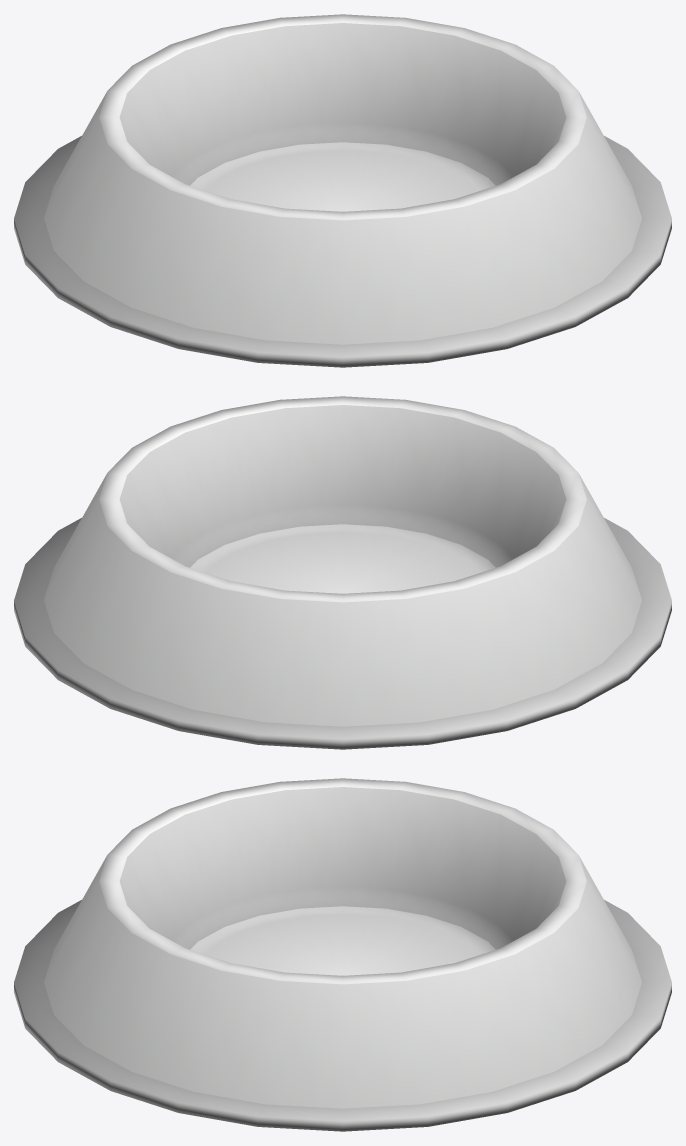
The model's file is tin.gltf.
The picture shows the model from 3 angles, top to bottom: view 1: azimuth 30°, elevation 25°; view 2: azimuth 150°, elevation 25°; view 3: azimuth 270°, elevation 25°; orthographic projection.
Parts seen in each view (by area): view 1: tin; view 2: tin; view 3: tin.
Boxes of the visible parts, left/top/right/bottom form: tin: left=14, top=14, right=671, bottom=367; tin: left=14, top=396, right=671, bottom=749; tin: left=14, top=778, right=671, bottom=1131.
Bounding box in the file's own units: 0.5331 × 0.0994 × 0.5331.
Materials: 1 (1 with a texture image).
